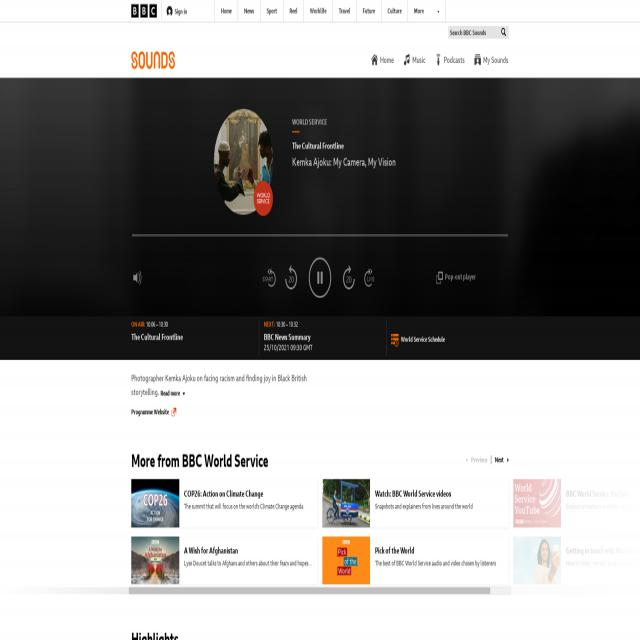button: (214, 108, 273, 215), (129, 587, 490, 595), (131, 479, 179, 528), (322, 479, 370, 528), (131, 536, 179, 585), (322, 536, 370, 585), (432, 48, 469, 74), (470, 49, 510, 72), (309, 257, 331, 298), (408, 0, 446, 22), (131, 51, 175, 70), (368, 47, 399, 72), (401, 48, 431, 72), (253, 181, 273, 216), (162, 0, 193, 20), (304, 0, 332, 22), (381, 0, 408, 22), (360, 260, 377, 292), (357, 0, 381, 22), (339, 261, 356, 292), (215, 0, 238, 22), (333, 0, 356, 22), (282, 264, 299, 293), (238, 0, 260, 22), (261, 0, 283, 22), (262, 264, 278, 293), (284, 0, 304, 22), (131, 4, 157, 18), (130, 266, 144, 289), (499, 26, 509, 39), (391, 334, 399, 347), (172, 408, 176, 417)
field: (448, 26, 499, 39)
